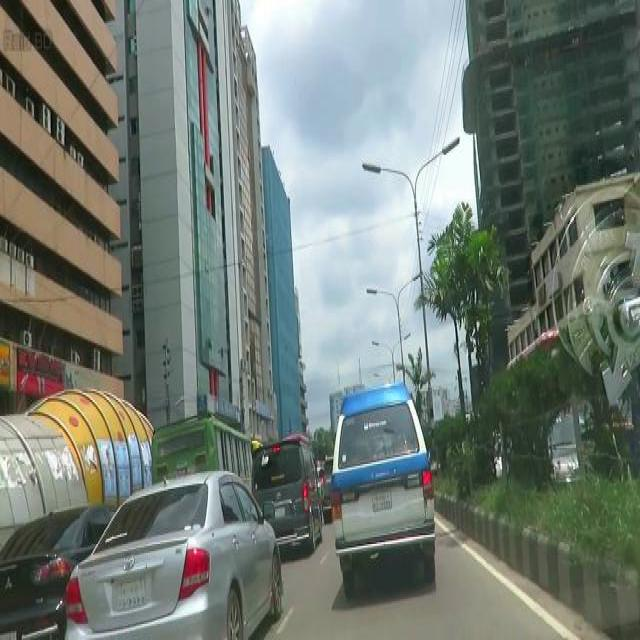bus: (144, 415, 256, 481)
car: (62, 468, 286, 638)
van: (328, 376, 440, 605), (250, 435, 324, 553)
